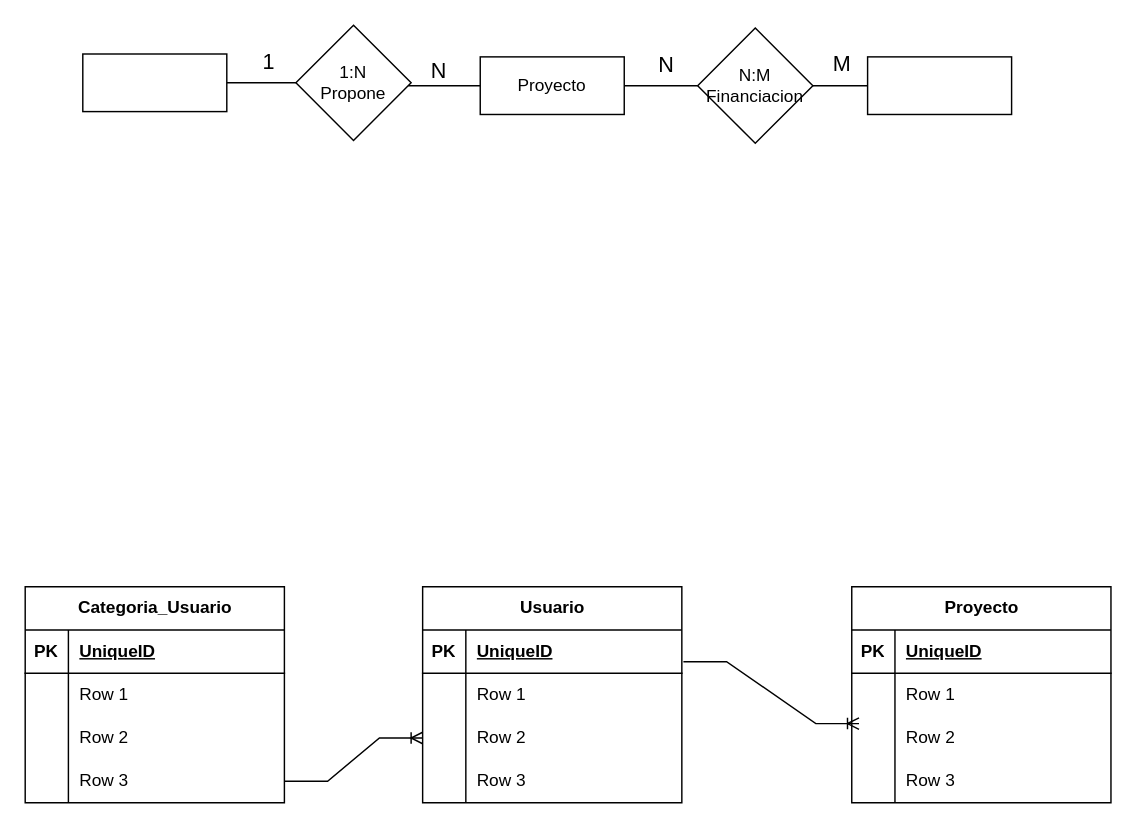
Image size: 1136x828. Some labels were removed from this diagram. Each missing label, with the centre of its shape:
Usuario (Creador): (154,82)
Usuario (Patrocinador): (939,84)
